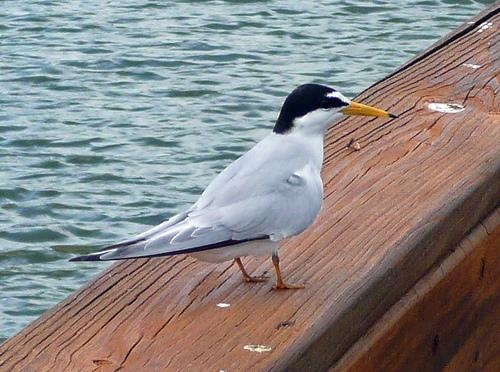bird: (76, 83, 400, 292)
